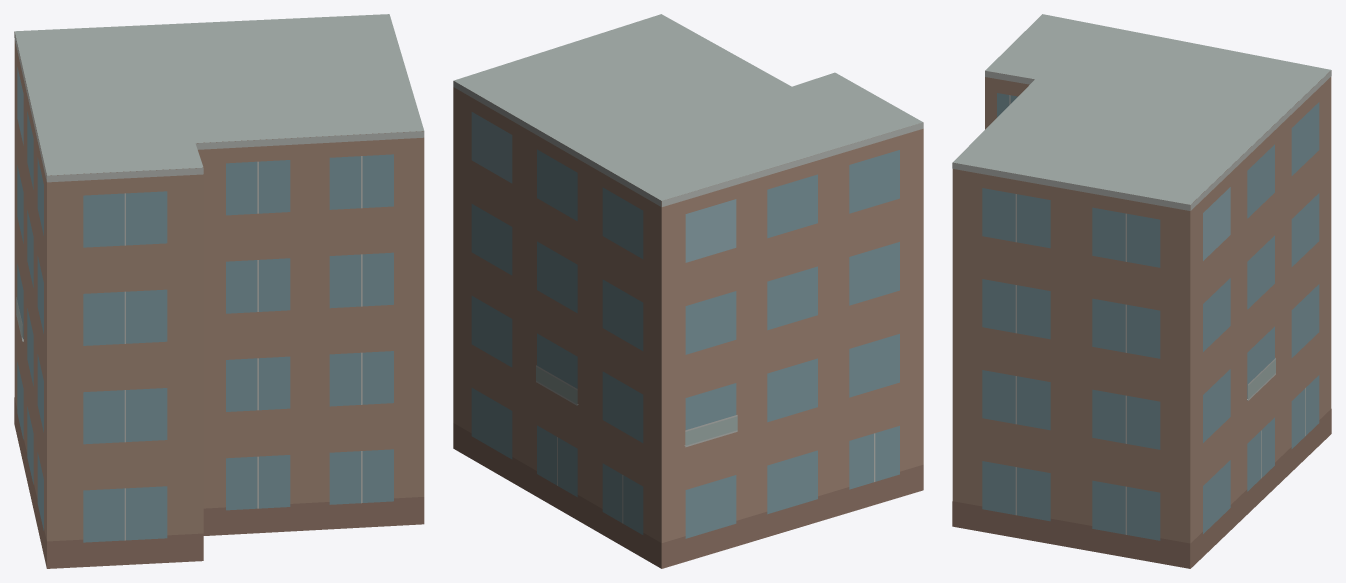
File: survey-upis-32532171.glb
3 renders of one model, left to right at view 1: azimuth 30°, elevation 25°; view 2: azimuth 150°, elevation 25°; view 3: azimuth 270°, elevation 25°, orthographic. The views are drawn at different scales.
Visible parts, largest first — view 1: survey-upis-32532171.tmp; view 2: survey-upis-32532171.tmp; view 3: survey-upis-32532171.tmp.
Part boxes in pixels (x1,y1,x2,y2): survey-upis-32532171.tmp: (14,14,424,568); survey-upis-32532171.tmp: (453,14,923,568); survey-upis-32532171.tmp: (952,14,1331,568).
Bounding box in the file's own units: 15.98 × 14.2 × 13.41.
